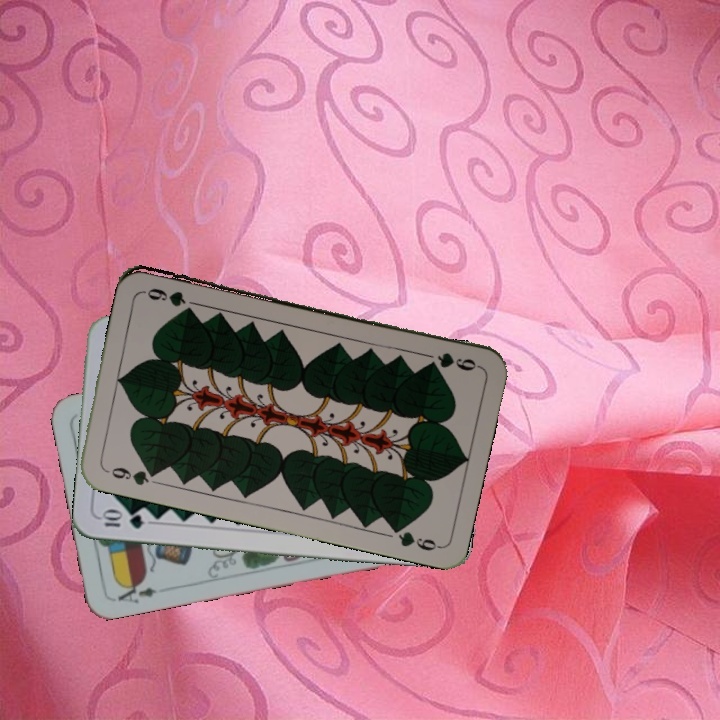EA: (114, 577, 160, 606)
G10: (97, 509, 147, 531)
G9: (100, 463, 161, 488), (433, 348, 483, 374)
